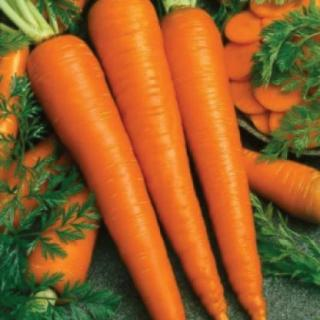Wortel: (86, 1, 228, 320), (26, 34, 183, 320), (163, 7, 268, 320)
